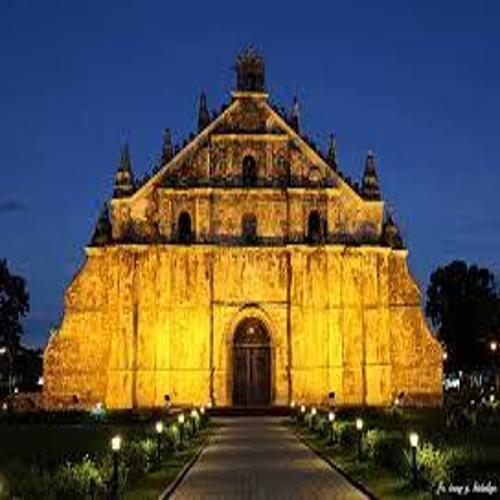Paoay Church: (41, 41, 453, 414)
